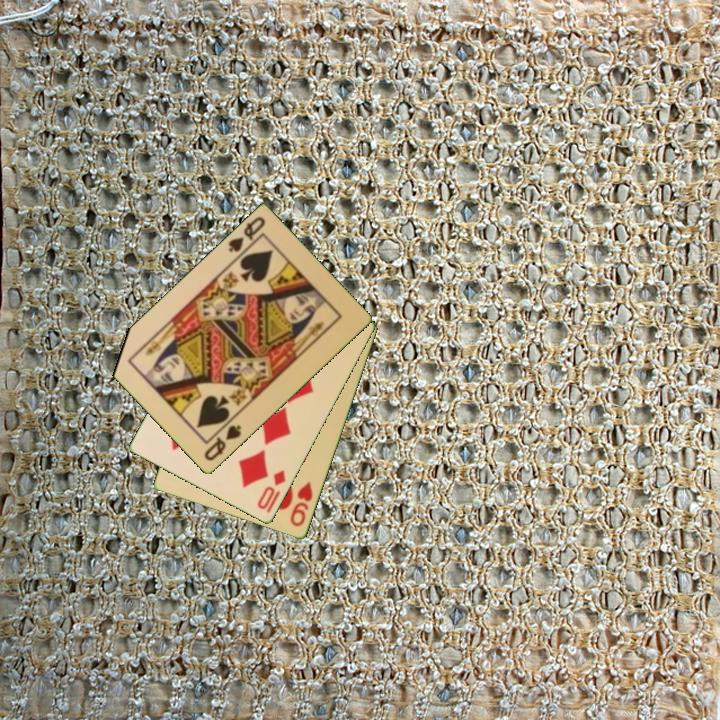10d: (254, 466, 289, 516)
9h: (287, 478, 316, 530)
Qs: (201, 421, 244, 464), (225, 213, 268, 256)
